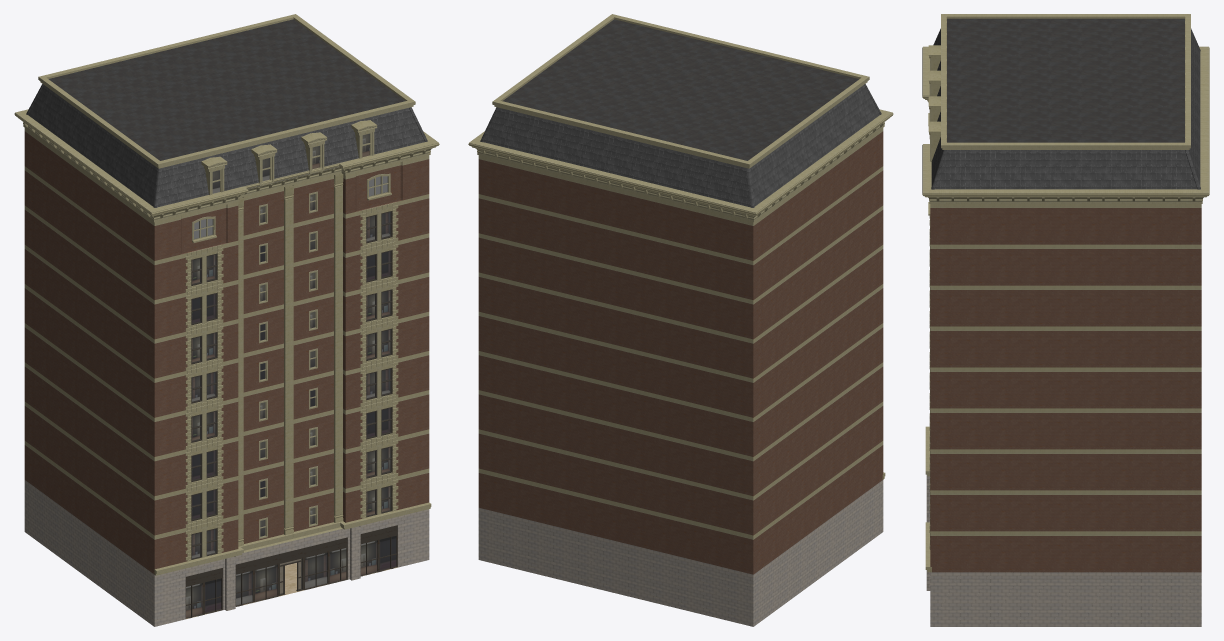
File: Building_Large_3.glb
The picture shows the model from 3 angles, left to right: view 1: azimuth 30°, elevation 25°; view 2: azimuth 150°, elevation 25°; view 3: azimuth 270°, elevation 25°; orthographic projection. The views are drawn at different scales.
Visible parts, largest first — view 1: Building_Large_3; view 2: Building_Large_3; view 3: Building_Large_3.
Boxes of the visible parts, x1,y1,x2,y2 form: Building_Large_3: (14,14,439,626); Building_Large_3: (468,14,893,626); Building_Large_3: (922,14,1209,626).
Size of the model in its own units: 23.06 by 34.95 by 19.06.
Materials: 12 (10 with a texture image).
